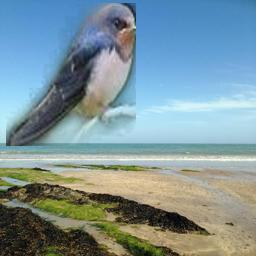Swallow: (6, 3, 136, 146)
